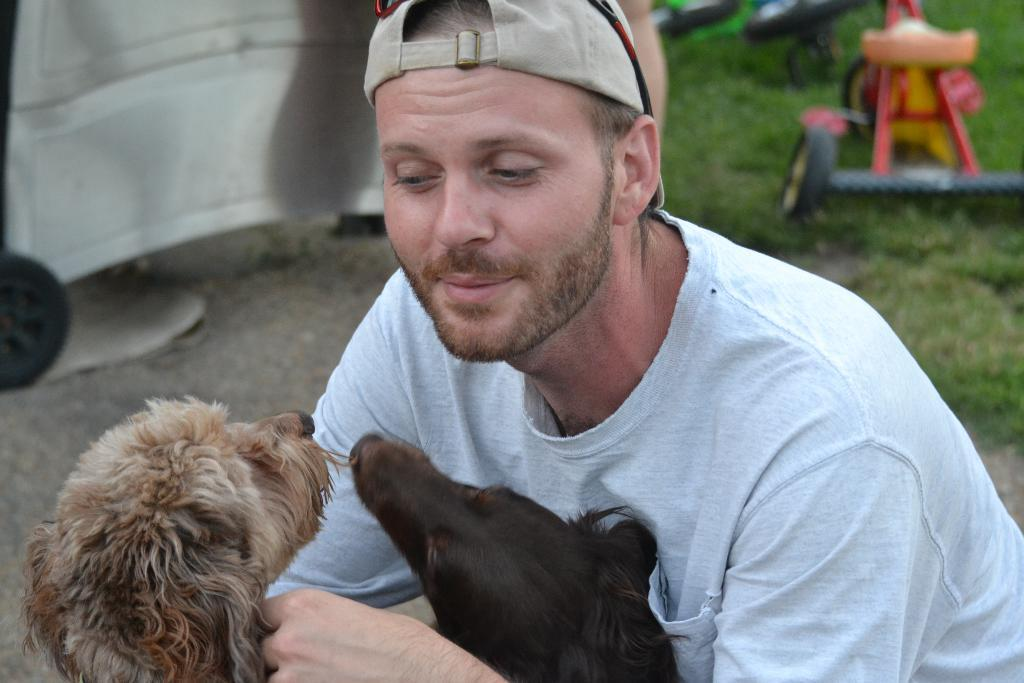Sem Máscara: (379, 54, 613, 352)
